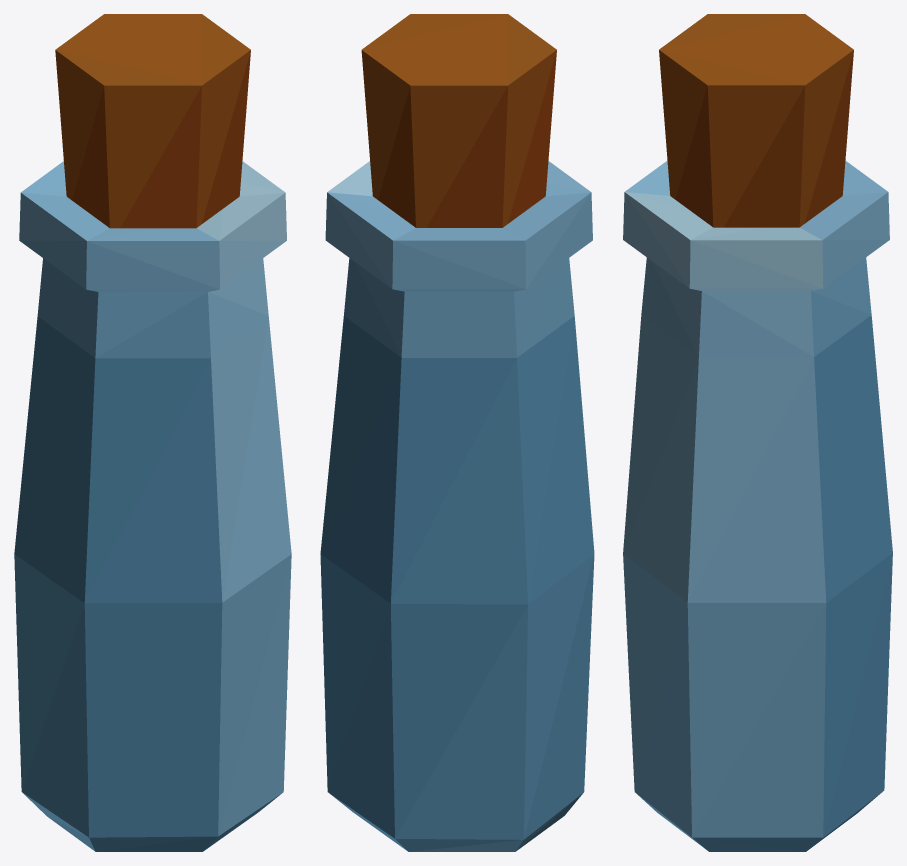
File: prop_bottle_potion_empty_6.fbx
The picture shows the model from 3 angles, left to right: view 1: azimuth 30°, elevation 25°; view 2: azimuth 150°, elevation 25°; view 3: azimuth 270°, elevation 25°; orthographic projection.
Visible parts, largest first — view 1: prop_bottle_potion_empty_6; view 2: prop_bottle_potion_empty_6; view 3: prop_bottle_potion_empty_6.
Part boxes in pixels (x1,y1,x2,y2): prop_bottle_potion_empty_6: [14, 14, 291, 851]; prop_bottle_potion_empty_6: [320, 14, 594, 851]; prop_bottle_potion_empty_6: [623, 14, 892, 851].
Bounding box in the file's own units: 0.1374 × 0.4837 × 0.155.
